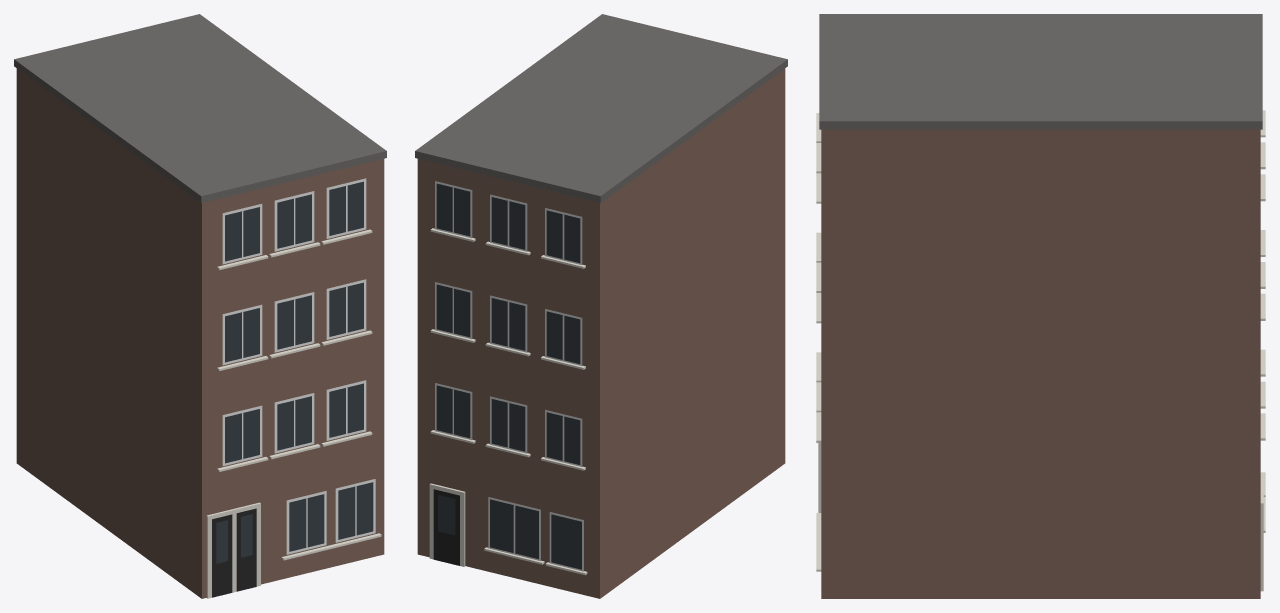
File: we-or-three__portiek__4__flat__long__solid.glb
3 views of the same model, side by side, from view 1: azimuth 30°, elevation 25°; view 2: azimuth 150°, elevation 25°; view 3: azimuth 270°, elevation 25° (orthographic). The views are drawn at different scales.
Parts seen in each view (by area): view 1: we-or-three__portiek__4__flat__long__solid; view 2: we-or-three__portiek__4__flat__long__solid; view 3: we-or-three__portiek__4__flat__long__solid.
Part boxes in pixels (x1,y1,x2,y2): we-or-three__portiek__4__flat__long__solid: (14,14,386,598); we-or-three__portiek__4__flat__long__solid: (415,14,787,598); we-or-three__portiek__4__flat__long__solid: (816,14,1265,598).
Bounding box in the file's own units: 6.06 × 12.6 × 10.73.
